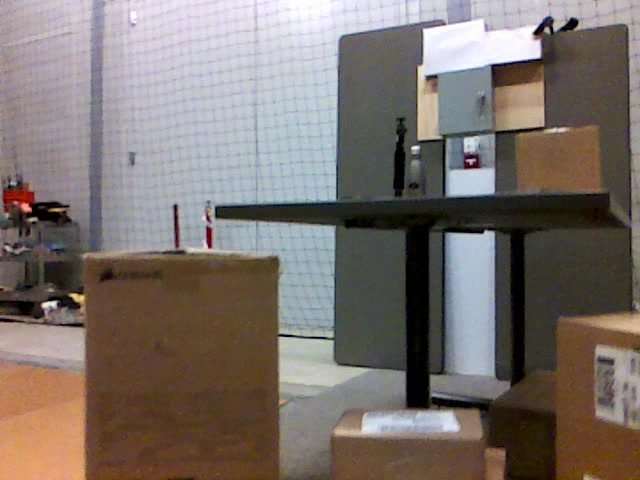box: (83, 252, 277, 477), (556, 310, 640, 480), (333, 405, 487, 478), (490, 367, 556, 480), (515, 125, 601, 193)
